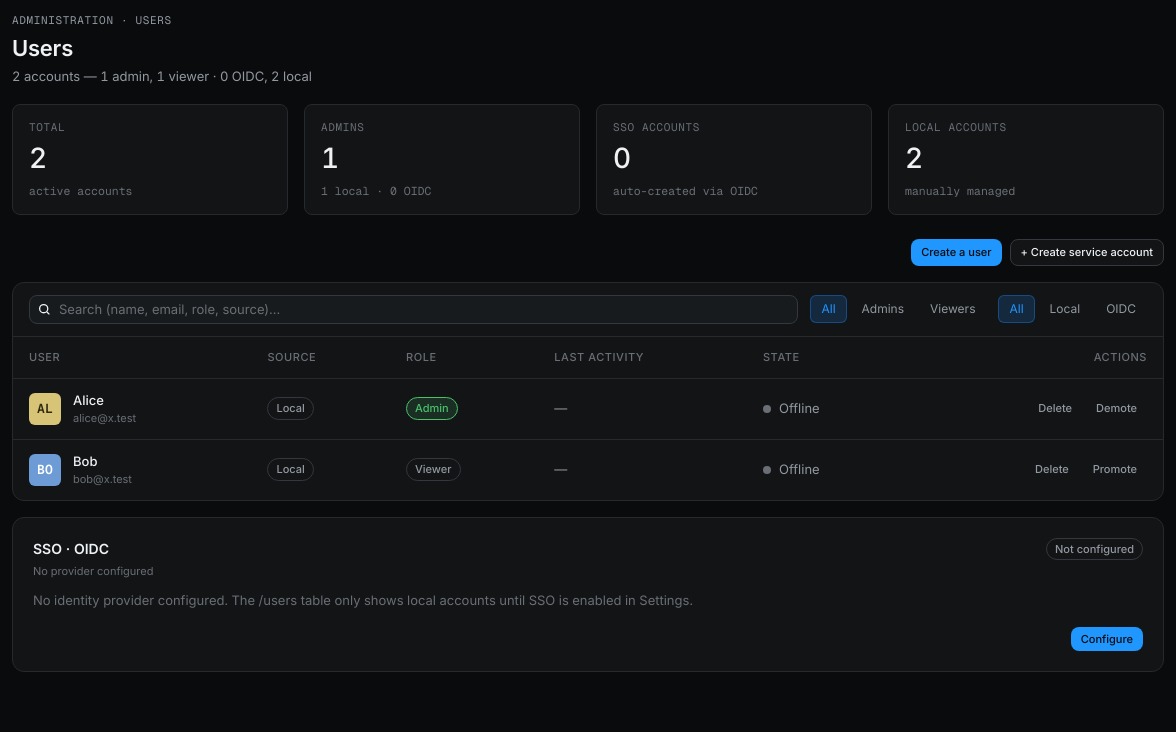
Test: /utilisateurs — filters › search matches username, email, and role substring
The image size is (1176, 732).
Expected: the row with test id "user-row-u1" is shown, [13, 378, 1163, 439]
Expected: the row with test id "user-row-u2" is shown, [13, 439, 1163, 500]
In the search field named "Filter users": point(424, 309) [59, 300, 790, 319], type "alice"
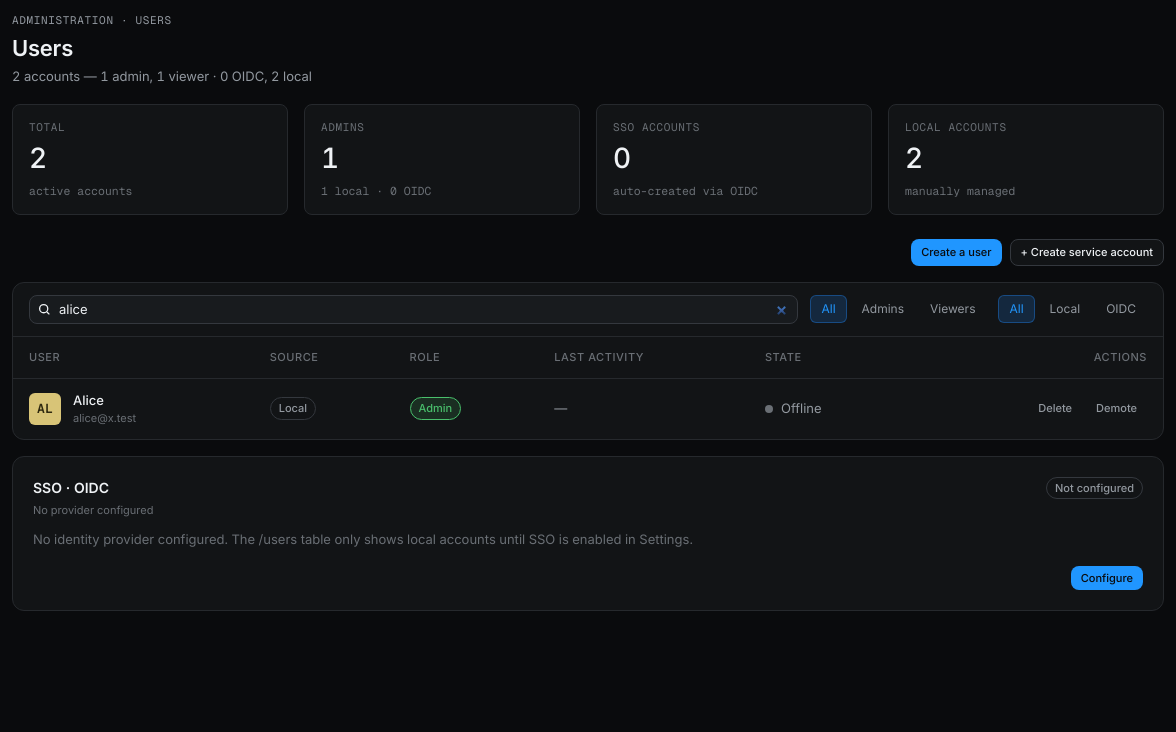
Expected: the row with test id "user-row-u1" is shown, [13, 378, 1163, 439]
Now the row with test id "user-row-u2" is gone
